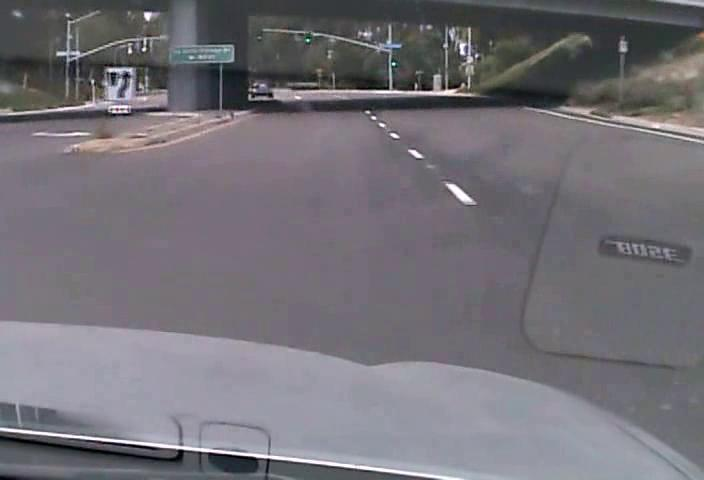keepRight: (103, 65, 135, 101)
